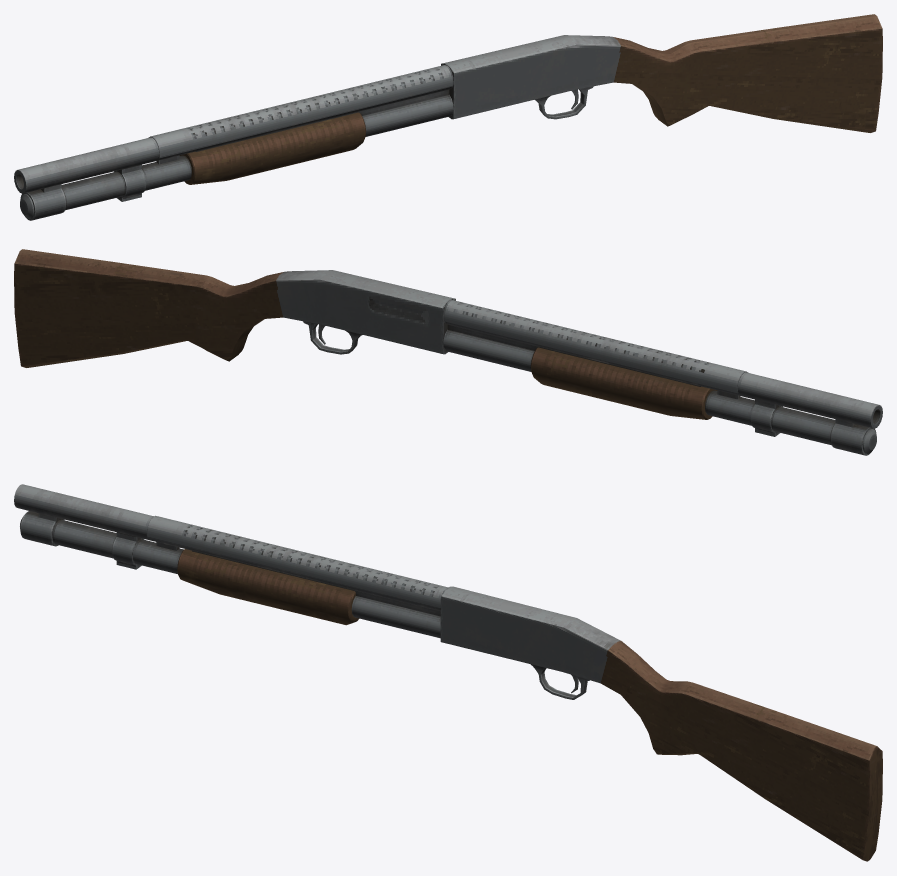
The model's file is shotgun.fbx.
3 views of the same model, one above another, from view 1: azimuth 30°, elevation 25°; view 2: azimuth 150°, elevation 25°; view 3: azimuth 330°, elevation 25° (orthographic).
Visible parts, largest first — view 1: shotgun, shotgun_shutter; view 2: shotgun, shotgun_shutter; view 3: shotgun, shotgun_shutter.
Part boxes in pixels (x1,y1,x2,y2): shotgun: (14, 14, 882, 220); shotgun_shutter: (179, 112, 366, 184); shotgun: (14, 249, 882, 455); shotgun_shutter: (530, 347, 717, 419); shotgun: (14, 484, 882, 861); shotgun_shutter: (177, 549, 359, 625).
Size of the model in its own units: 762 by 144 by 27.27.
1 material, 1 textured.
